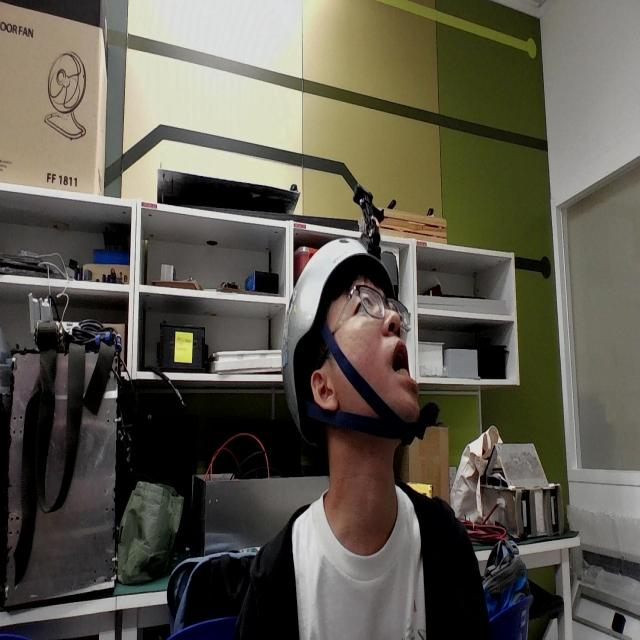With Helmet: (266, 212, 433, 480)
